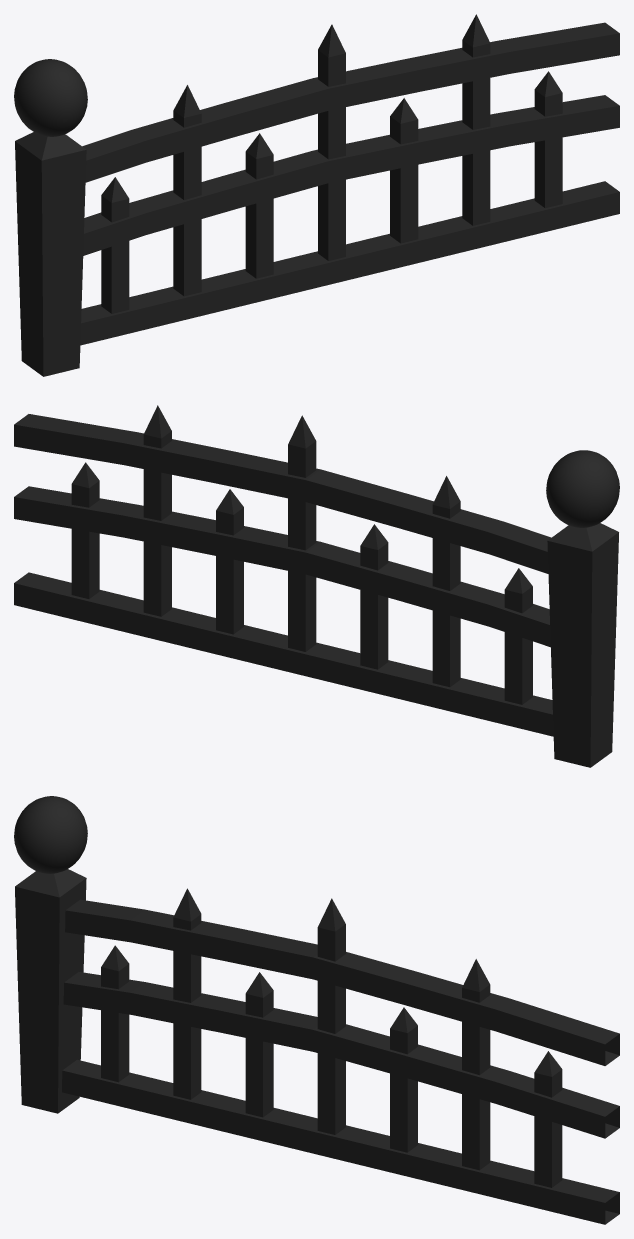
Rendered from Fence 6.fbx.
The picture shows the model from 3 angles, top to bottom: view 1: azimuth 30°, elevation 25°; view 2: azimuth 150°, elevation 25°; view 3: azimuth 330°, elevation 25°; orthographic projection.
Visible parts, largest first — view 1: Fence 6; view 2: Fence 6; view 3: Fence 6.
Part boxes in pixels (<box>): Fence 6: <box>14,14,619,376</box>; Fence 6: <box>14,405,619,767</box>; Fence 6: <box>14,796,619,1224</box>.
Bounding box in the file's own units: 359 × 174 × 40.9.
